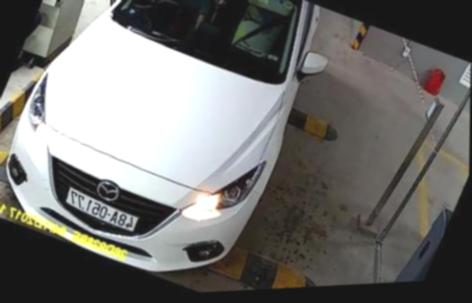License_Plate: (61, 176, 142, 237)
